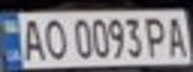0: (69, 15, 93, 60), (90, 15, 109, 60)
3: (124, 15, 145, 60)
9: (106, 15, 127, 60)
A: (18, 16, 48, 63), (163, 14, 190, 58)
O: (39, 15, 69, 62)
P: (142, 14, 172, 58)
